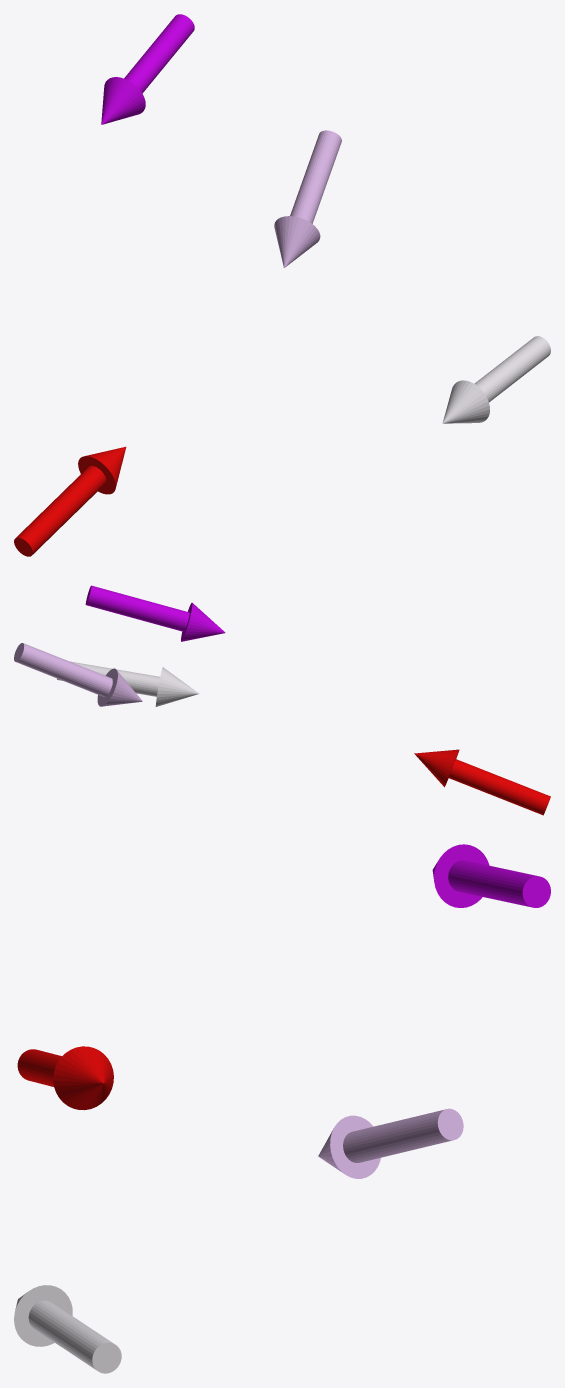
The model's file is opt_res.glb.
3 views of the same model, one above another, from view 1: azimuth 30°, elevation 25°; view 2: azimuth 150°, elevation 25°; view 3: azimuth 270°, elevation 25° (orthographic). The views are drawn at different scales.
Parts seen in each view (by area): view 1: world; view 2: world; view 3: world.
Part boxes in pixels (<box>): world: <box>14,14,550,556</box>; world: <box>14,585,550,815</box>; world: <box>14,844,550,1373</box>.
Bounding box in the file's own units: 0.1067 × 0.059 × 0.067.
